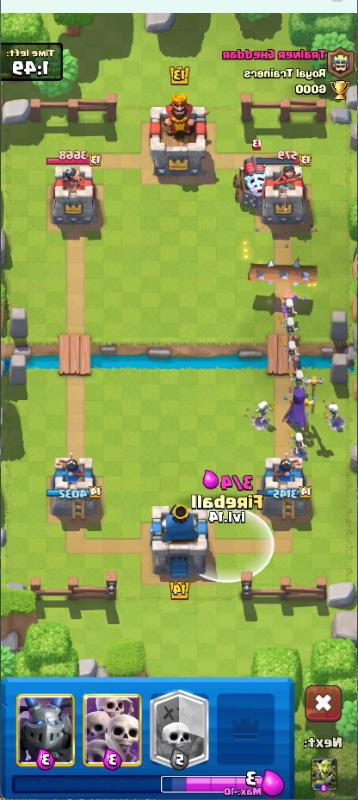squelette: (253, 399, 276, 428), (287, 431, 309, 457), (280, 337, 301, 362), (322, 401, 340, 428), (278, 295, 298, 318), (279, 316, 300, 336), (289, 367, 307, 390)
zappy: (229, 138, 269, 212)
